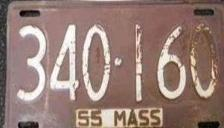0: (81, 23, 112, 103)
1: (131, 21, 148, 104)
3: (16, 22, 49, 103)
4: (48, 23, 81, 101)
6: (153, 23, 190, 101)
8: (186, 20, 221, 100)
A: (49, 23, 81, 95)
